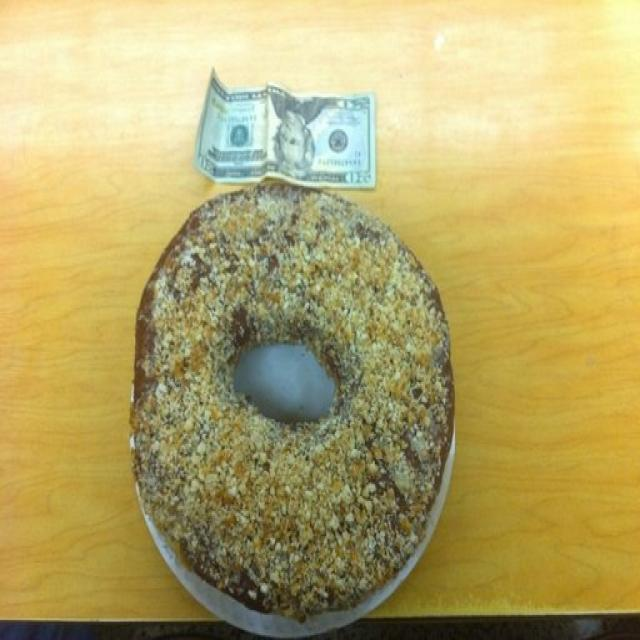Donuts: (118, 179, 464, 635)
